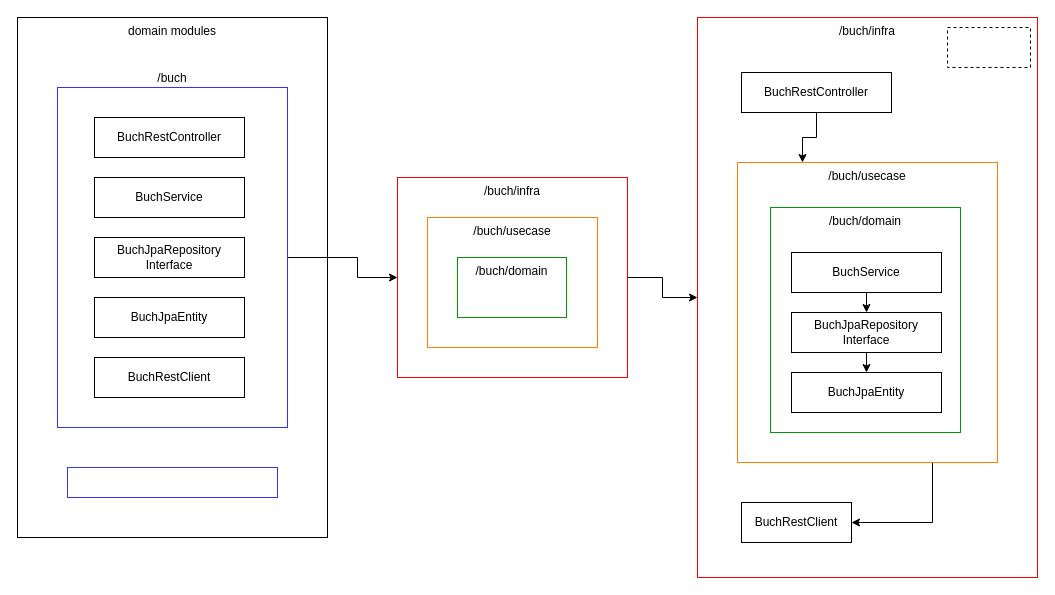
The diagram is 1055 pixels wide and 595 high, and some of its shapes have lost their labels. The shapes that lost their labels are listed below. From the top down, each one's centre as x and y in pixels, then its label:
pixel 988 47: ddd onion start point
pixel 172 482: /ausleihe
